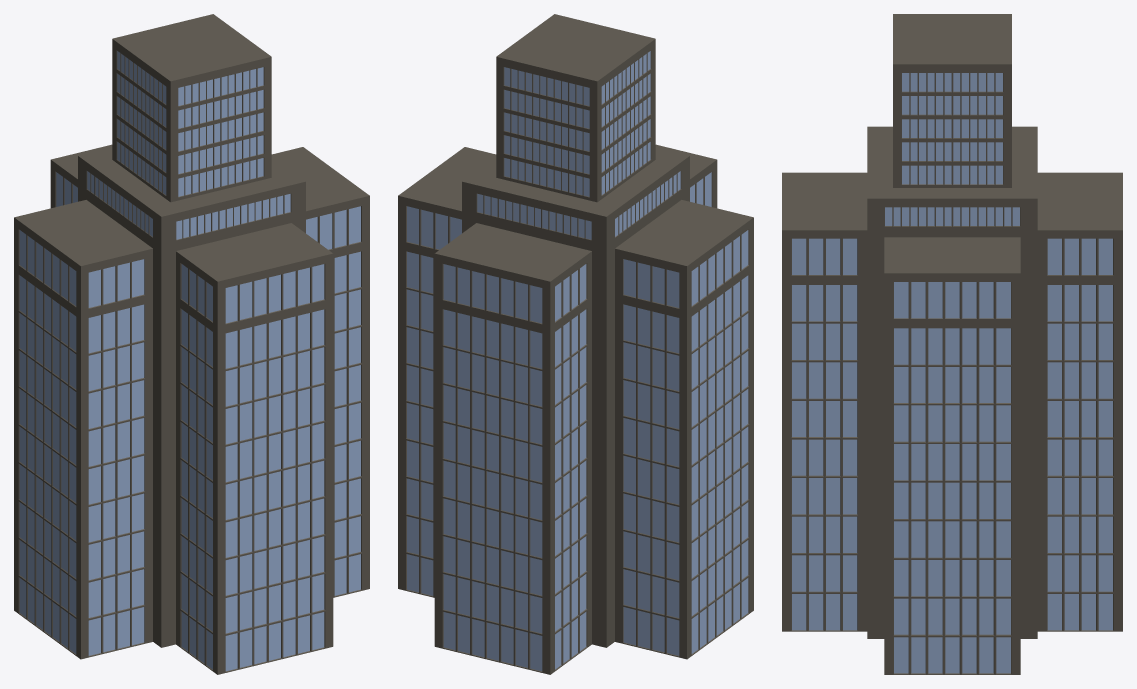
The model's file is Imeuble5.fbx.
The picture shows the model from 3 angles, left to right: view 1: azimuth 30°, elevation 25°; view 2: azimuth 150°, elevation 25°; view 3: azimuth 270°, elevation 25°; orthographic projection. The views are drawn at different scales.
Parts seen in each view (by area): view 1: pasted__fenetre_1_156; view 2: pasted__fenetre_1_156; view 3: pasted__fenetre_1_156.
Part boxes in pixels (bbox=[...]): pasted__fenetre_1_156: bbox=[14, 14, 369, 674]; pasted__fenetre_1_156: bbox=[398, 14, 753, 674]; pasted__fenetre_1_156: bbox=[782, 14, 1122, 674].
Size of the model in its own units: 4 by 7.3 by 4.
